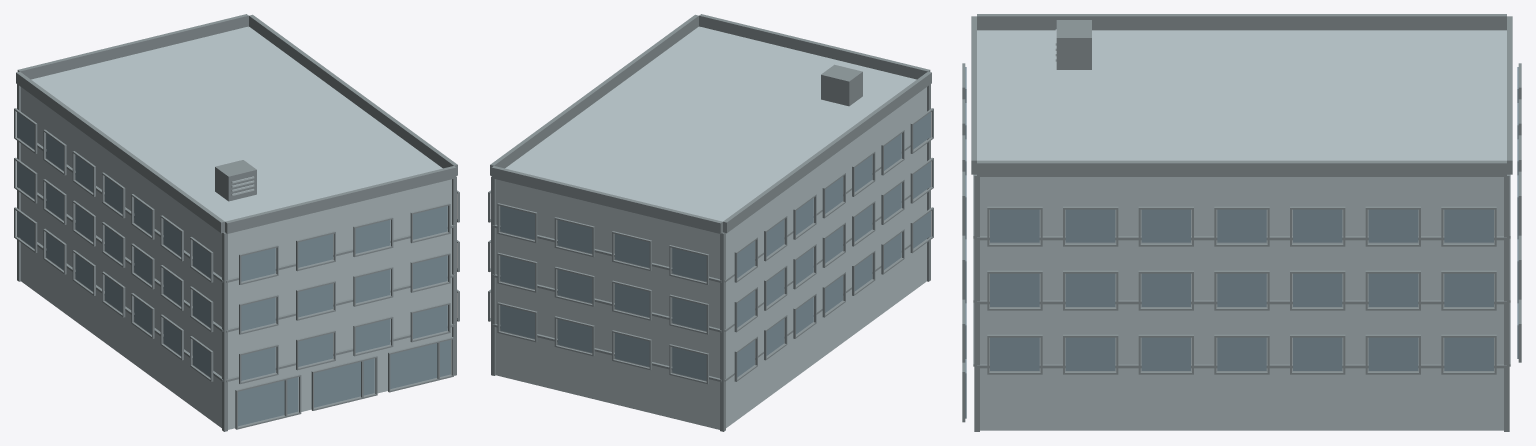
Rendered from lot_2x3_slab.glb.
3 views of the same model, side by side, from view 1: azimuth 30°, elevation 25°; view 2: azimuth 150°, elevation 25°; view 3: azimuth 270°, elevation 25° (orthographic). The views are drawn at different scales.
Parts seen in each view (by area): view 1: lot_2x3_slab; view 2: lot_2x3_slab; view 3: lot_2x3_slab.
Part boxes in pixels (box(x1,y1,x2,y2)): lot_2x3_slab: box(14, 14, 459, 431); lot_2x3_slab: box(488, 14, 933, 431); lot_2x3_slab: box(962, 14, 1521, 431).
Size of the model in its own units: 15.74 by 13.5 by 23.74.
